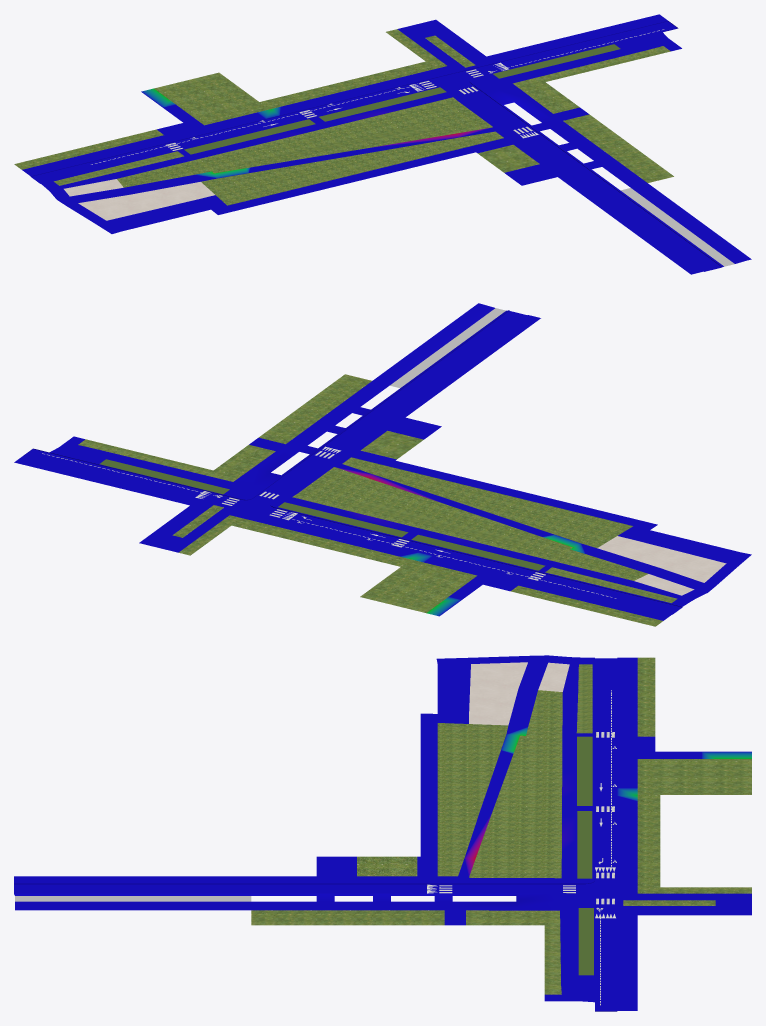
The model's file is SM_Terrain_01.fbx.
3 renders of one model, top to bottom at view 1: azimuth 30°, elevation 25°; view 2: azimuth 150°, elevation 25°; view 3: azimuth 270°, elevation 25°, orthographic. The views are drawn at different scales.
Parts seen in each view (by area): view 1: SM_Terrain_01; view 2: SM_Terrain_01; view 3: SM_Terrain_01.
Part boxes in pixels (box(x1,y1,x2,y2)): SM_Terrain_01: box(14, 14, 751, 274); SM_Terrain_01: box(14, 303, 751, 626); SM_Terrain_01: box(14, 655, 751, 1011).
Bounding box in the file's own units: 324 × 0.6932 × 284.
